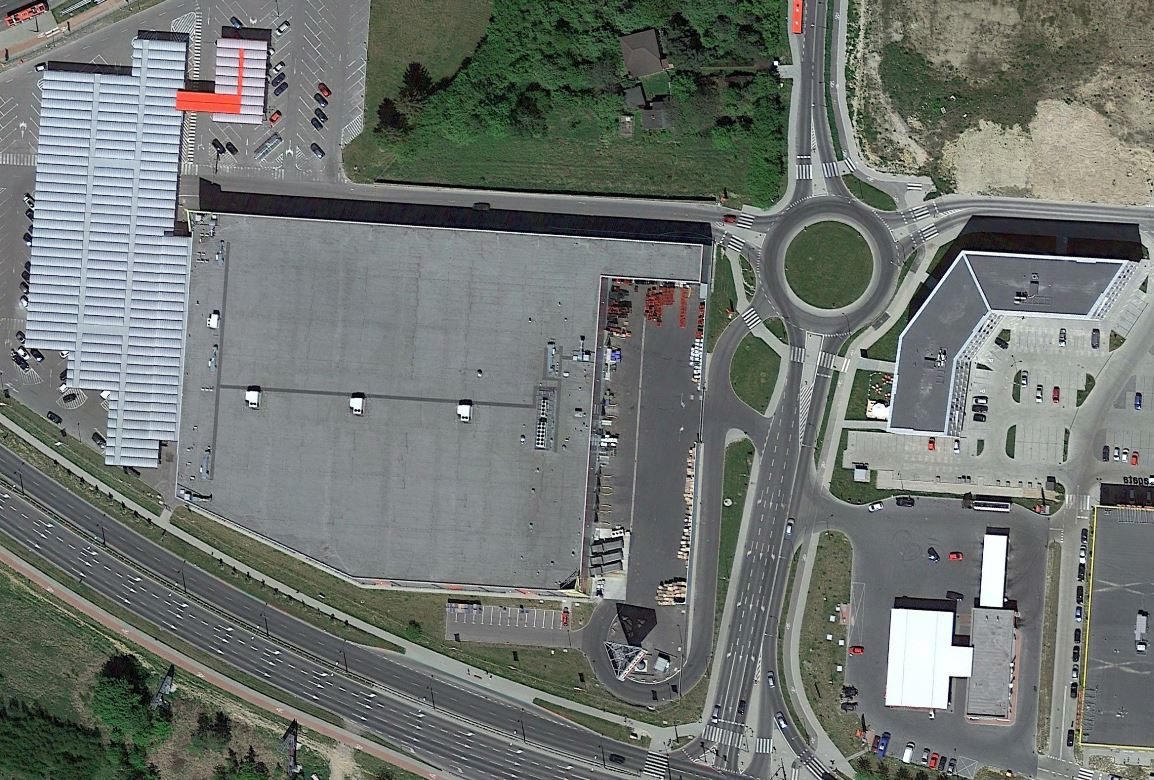block of flats: (883, 230, 1139, 471)
shopping_center: (123, 196, 732, 615), (1065, 486, 1154, 757)
